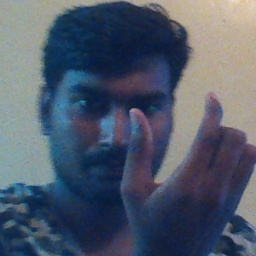U: (124, 89, 256, 251)
